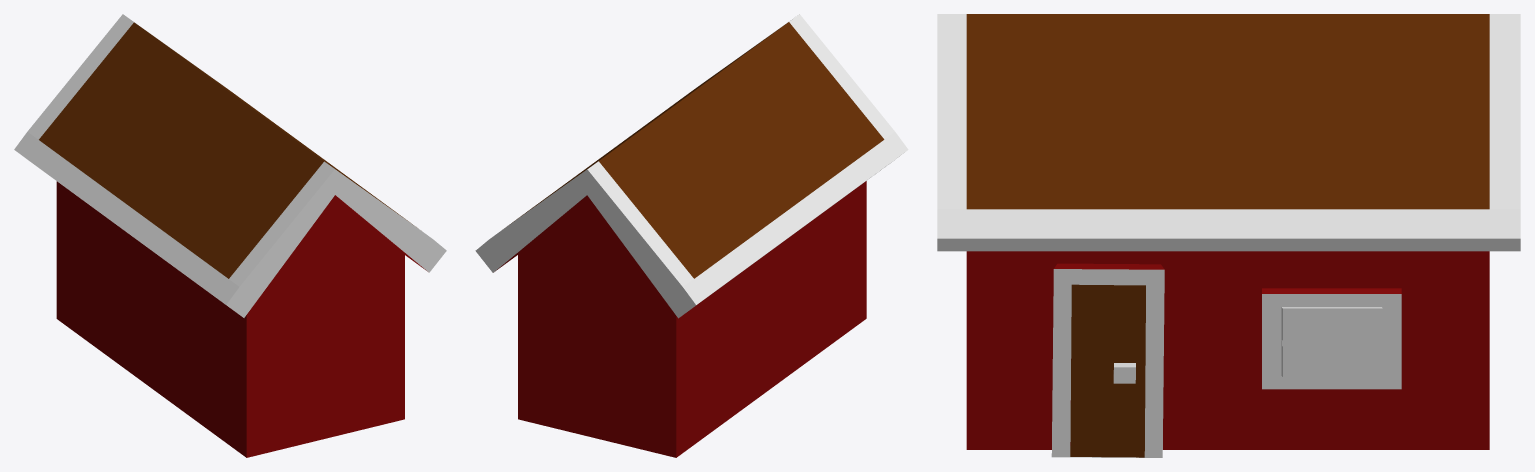
File: house.fbx
3 renders of one model, left to right at view 1: azimuth 30°, elevation 25°; view 2: azimuth 150°, elevation 25°; view 3: azimuth 270°, elevation 25°, orthographic. The views are drawn at different scales.
Visible parts, largest first — view 1: Cube; view 2: Cube; view 3: Cube.
Part boxes in pixels (left/top/right/bottom): Cube: left=14, top=14, right=446, bottom=457; Cube: left=475, top=14, right=908, bottom=457; Cube: left=937, top=14, right=1520, bottom=457.
Size of the model in its own units: 279 by 335 by 464.
